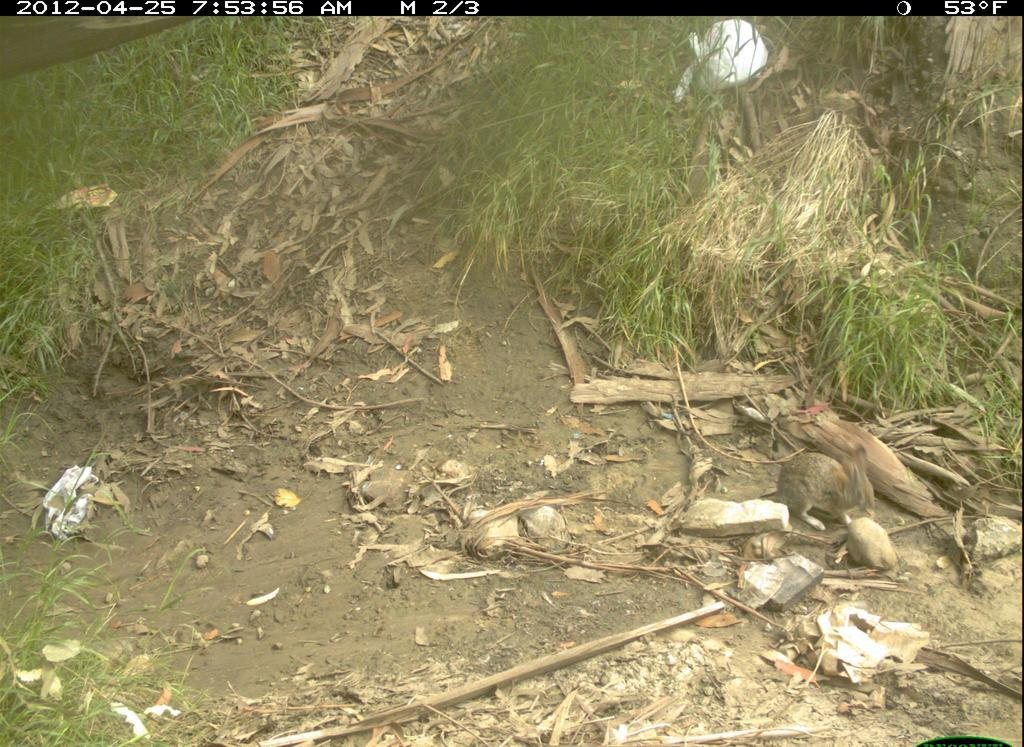rabbit: (772, 434, 882, 534)
